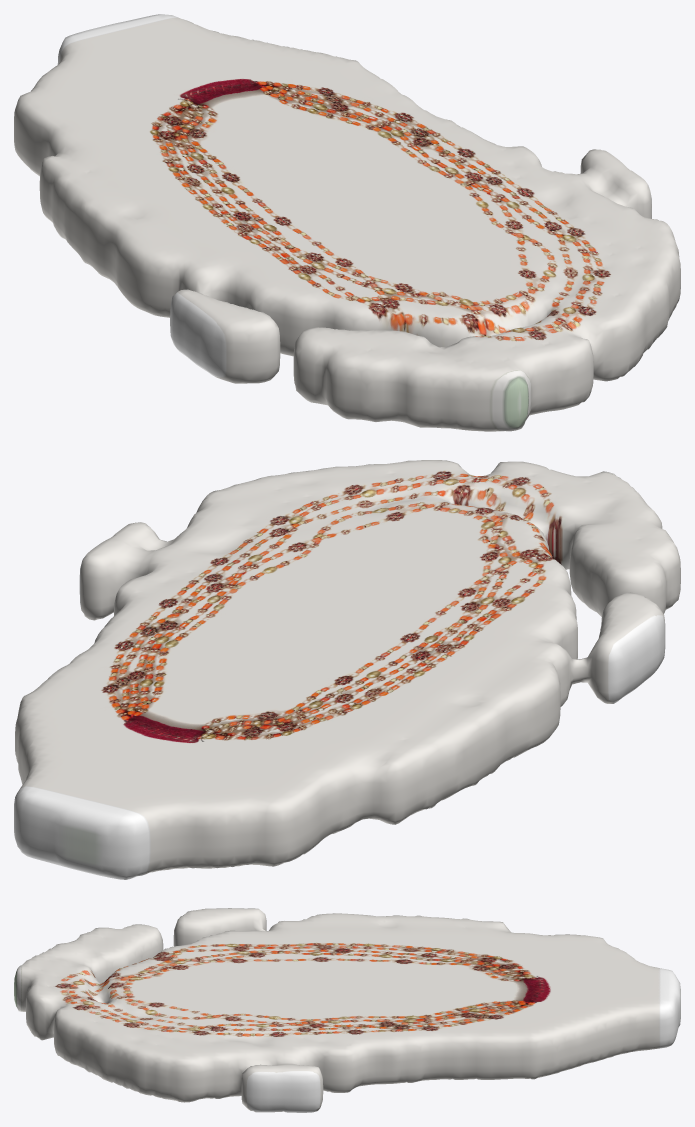
File: art-301_solid_clean.glb
The picture shows the model from 3 angles, top to bottom: view 1: azimuth 30°, elevation 25°; view 2: azimuth 150°, elevation 25°; view 3: azimuth 270°, elevation 25°; orthographic projection. The views are drawn at different scales.
Parts seen in each view (by area): view 1: Necklace; view 2: Necklace; view 3: Necklace.
Boxes of the visible parts, x1,y1,x2,y2 form: Necklace: [14, 14, 680, 431]; Necklace: [14, 460, 680, 879]; Necklace: [14, 908, 680, 1112].
Size of the model in its own units: 0.181 by 0.022 by 0.3033.
Materials: 1 (1 with a texture image).
